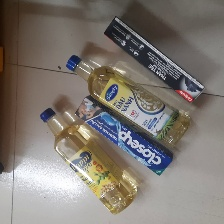CloseUp Tuyet: (72, 95, 174, 178)
Colgate Than: (103, 16, 206, 104)
Happy Soya: (39, 107, 137, 216)
Simply: (65, 56, 192, 147)
